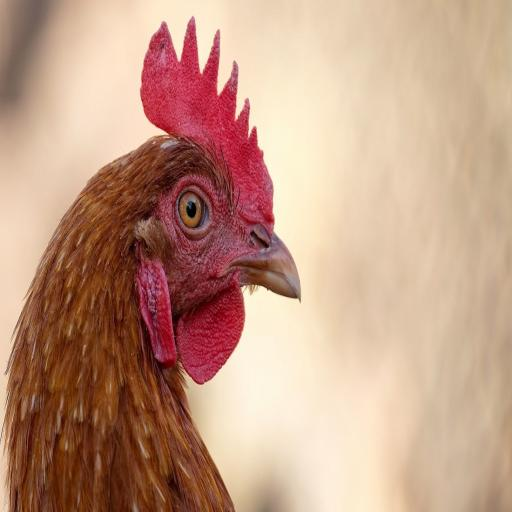healthy: (134, 13, 310, 366)
